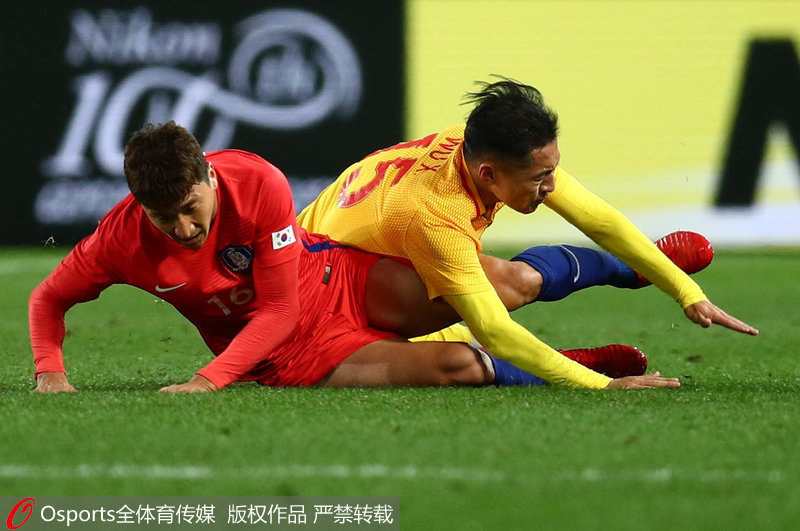fall: (233, 68, 741, 402)
